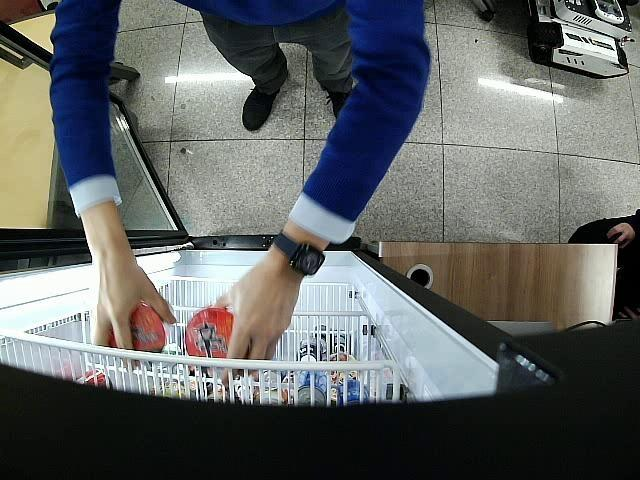02_shinRamen_S: (110, 301, 166, 355), (185, 308, 235, 358)
